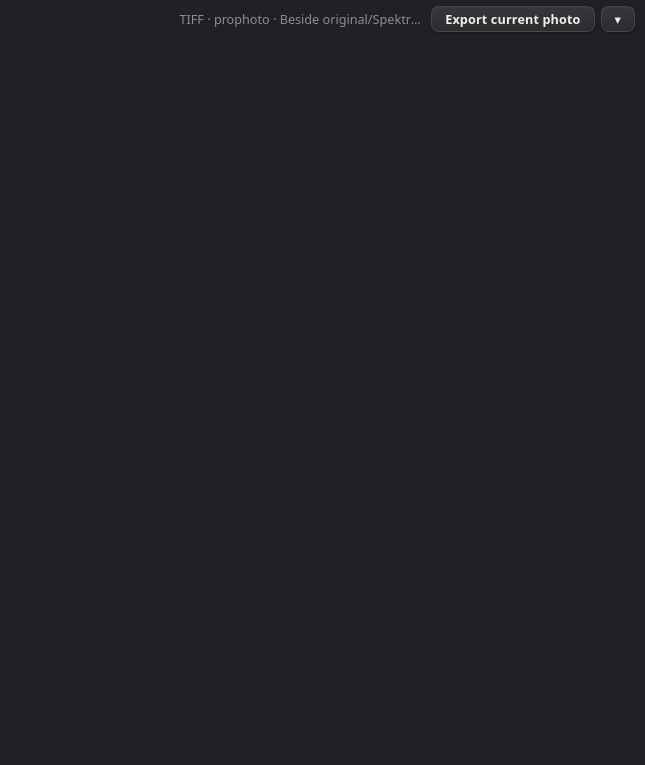
Test: export progress and completion › quick export reuses the saved recipe and explicitly writes only the current image in a multi-selection
Click the button with test id "quick-current".
click(513, 19)  # box [431,6,594,32]
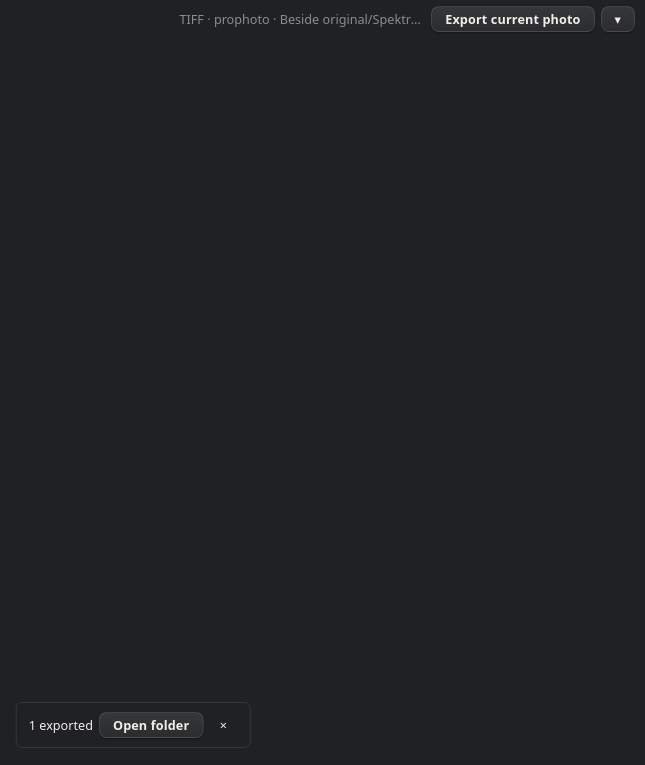
Result: the text "1 exported" is shown at [29,716,93,734]
